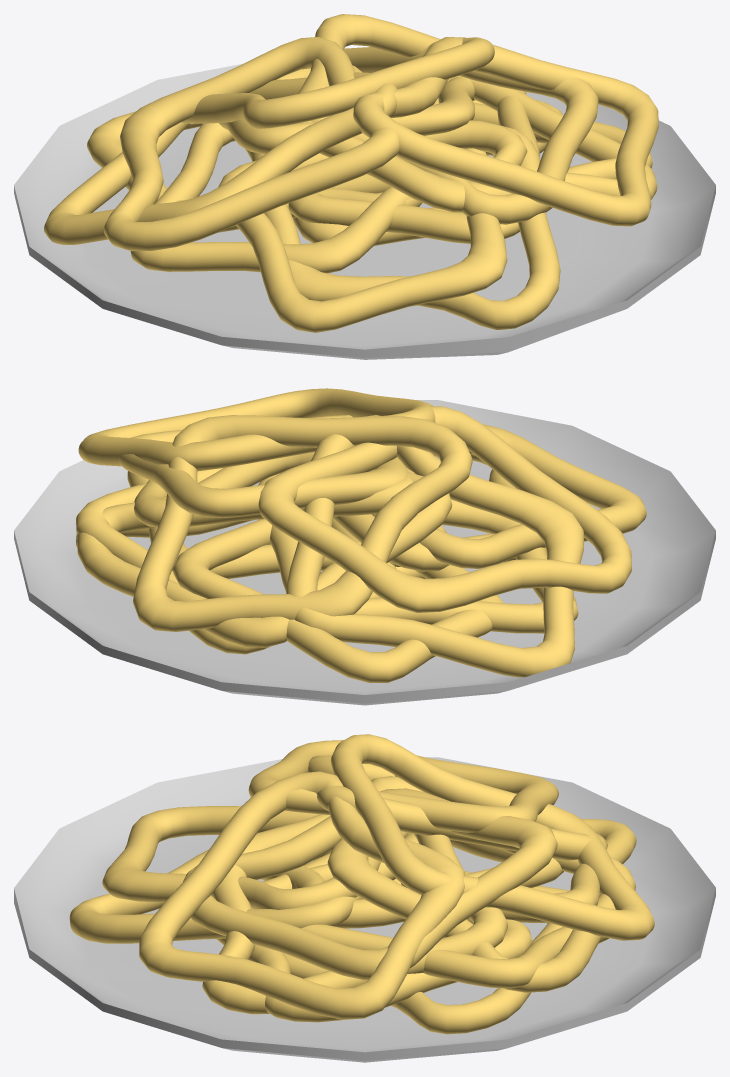
File: FunnelCake.fbx
3 renders of one model, top to bottom at view 1: azimuth 30°, elevation 25°; view 2: azimuth 150°, elevation 25°; view 3: azimuth 270°, elevation 25°, orthographic.
Parts seen in each view (by area): view 1: FunnelCake; view 2: FunnelCake; view 3: FunnelCake.
Part boxes in pixels (x1,y1,x2,y2): FunnelCake: (14,14,715,359); FunnelCake: (14,388,715,705); FunnelCake: (14,734,715,1062).
Size of the model in its own units: 42.7 by 11.55 by 42.94.
